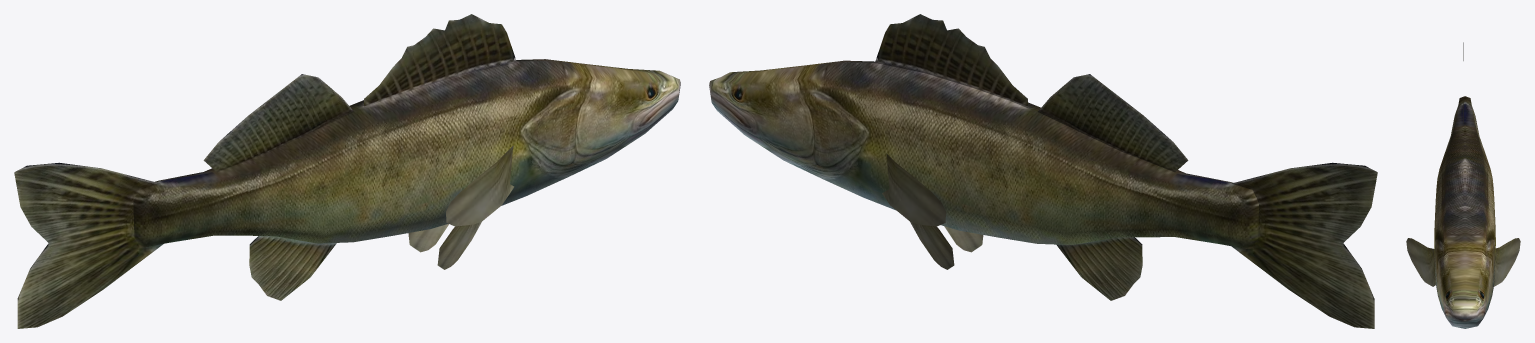
Rendered from Zander.glb.
3 renders of one model, left to right at view 1: azimuth 30°, elevation 25°; view 2: azimuth 150°, elevation 25°; view 3: azimuth 270°, elevation 25°, orthographic. The views are drawn at different scales.
Visible parts, largest first — view 1: Zander; view 2: Zander; view 3: Zander.
Boxes of the visible parts, bbox=[...] form: Zander: bbox=[14, 14, 680, 328]; Zander: bbox=[709, 14, 1377, 328]; Zander: bbox=[1406, 42, 1520, 328].
Size of the model in its own units: 2 by 0.6883 by 0.3916.
Materials: 1 (1 with a texture image).
